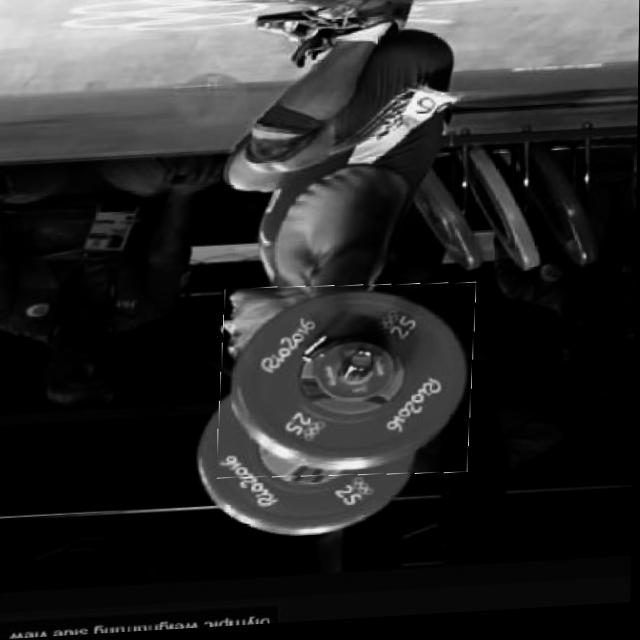barbell: (221, 284, 477, 488)
